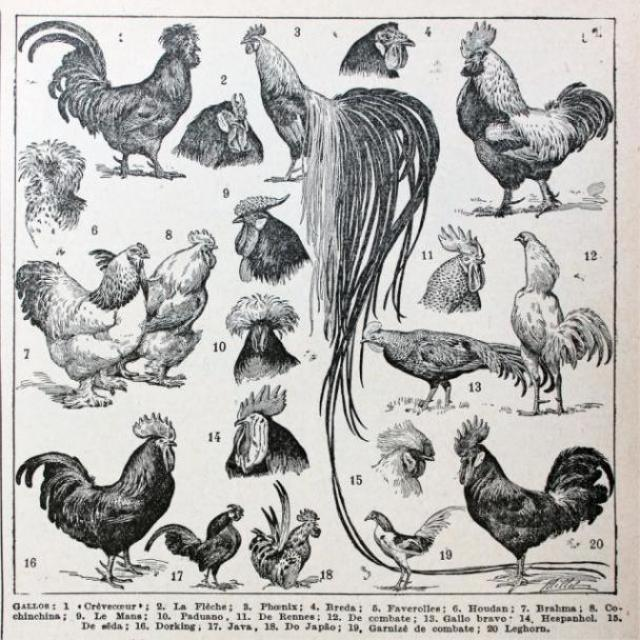Chicken: (238, 23, 613, 581), (16, 5, 151, 583), (455, 21, 615, 222), (16, 22, 201, 181), (13, 413, 175, 591), (455, 419, 615, 594), (12, 243, 152, 410), (90, 229, 218, 389), (510, 232, 612, 417), (360, 322, 532, 417), (145, 505, 243, 592), (248, 481, 321, 591), (224, 384, 308, 479), (232, 194, 315, 286), (418, 224, 485, 316), (368, 418, 437, 499), (336, 24, 413, 80)
